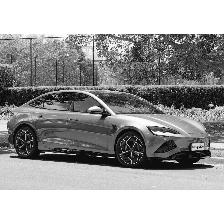EV: (7, 89, 213, 170)
